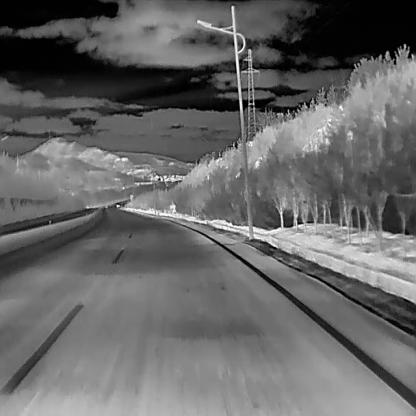truck: (115, 203, 120, 208)
